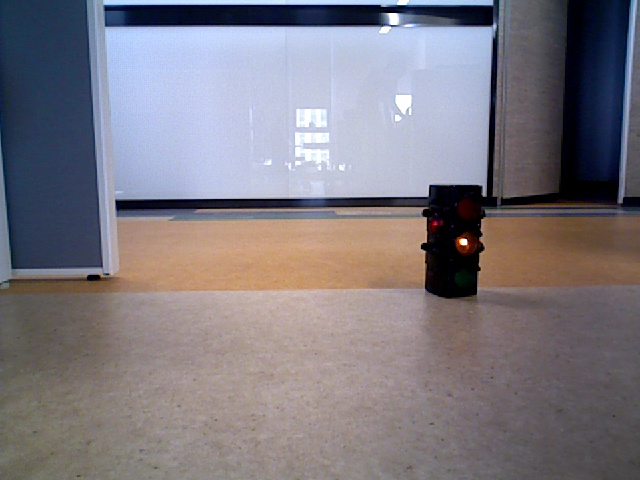yellow: (429, 187, 480, 294)
